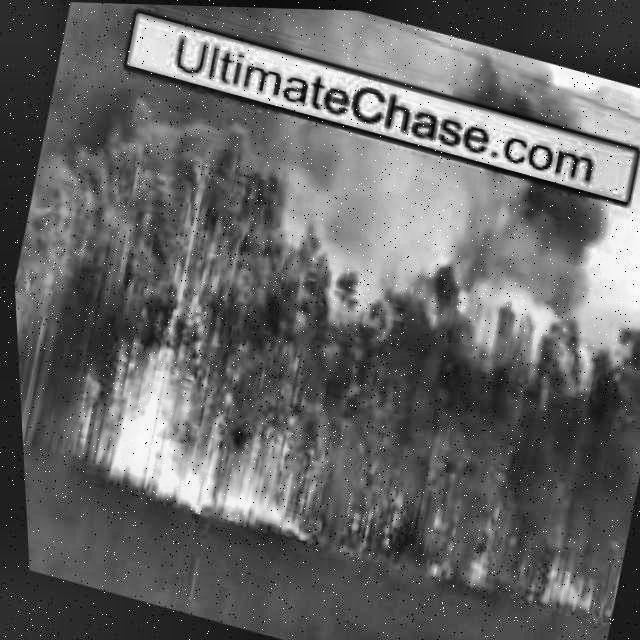Fire: (98, 340, 317, 530), (412, 505, 497, 591), (440, 235, 499, 310), (528, 565, 588, 614)
Smoke: (4, 51, 640, 436), (72, 2, 640, 148)
